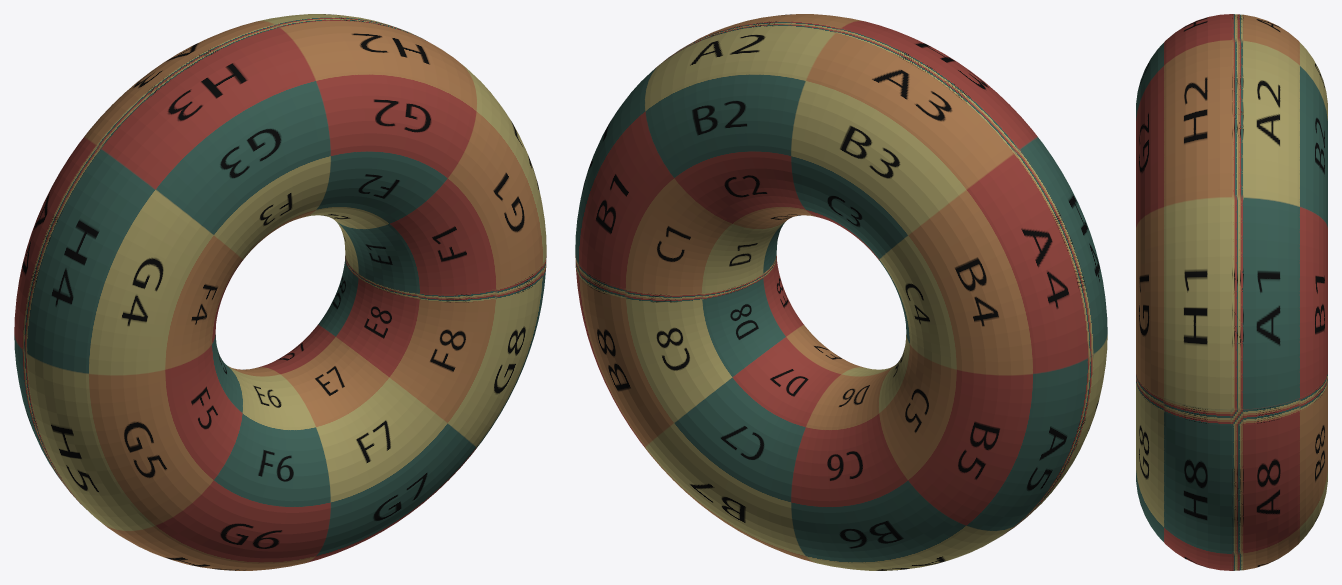
File: texture_torus_R1_r5.glb
3 renders of one model, left to right at view 1: azimuth 30°, elevation 25°; view 2: azimuth 150°, elevation 25°; view 3: azimuth 270°, elevation 25°, orthographic. The views are drawn at different scales.
Visible parts, largest first — view 1: world; view 2: world; view 3: world.
Part boxes in pixels (x1,y1,x2,y2): world: (14,14,546,570); world: (575,14,1107,570); world: (1136,14,1327,570).
Size of the model in its own units: 18.67 by 18.67 by 6.43.
Materials: 1 (1 with a texture image).
